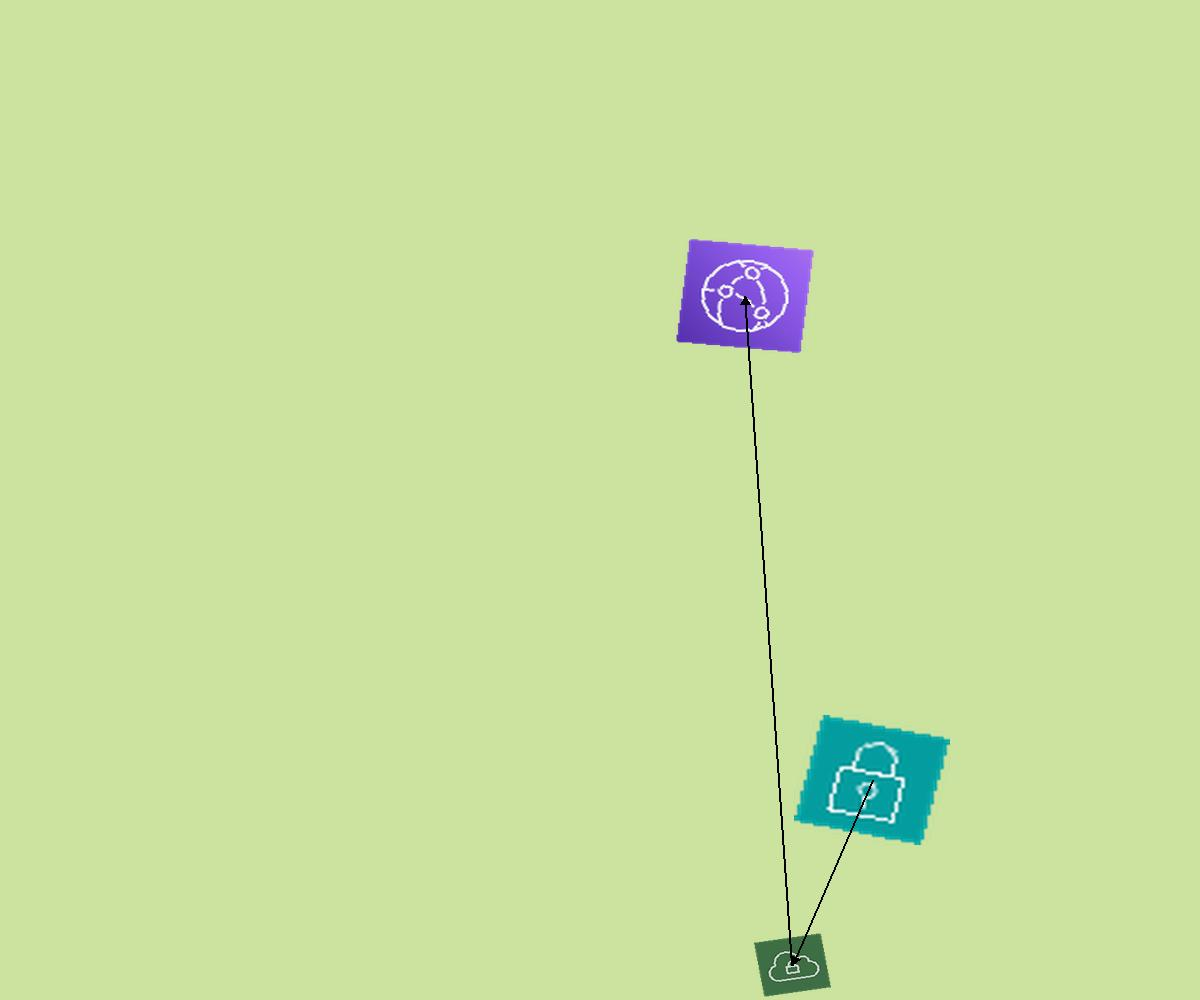AWS-CloudFront: (675, 238, 815, 354)
AWS-Private-subnet: (794, 715, 950, 845)
AWS-Private_vpc: (754, 933, 831, 997)
